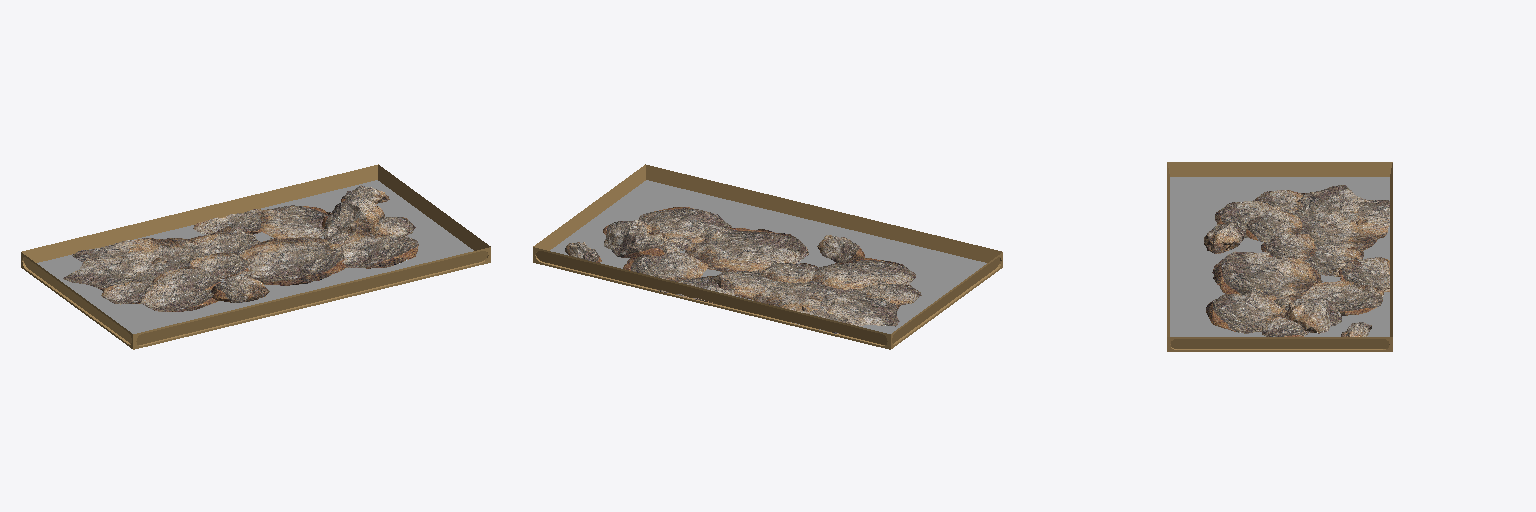
3 views of the same model, side by side, from view 1: azimuth 30°, elevation 25°; view 2: azimuth 150°, elevation 25°; view 3: azimuth 270°, elevation 25° (orthographic).
Visible parts, largest first — view 1: Icosphere.001_Icosphere.003, walls_wall1_walls_Cube.002_Cube.002_Material_wall1_walls_Cube.00, floor_Cube_Cube_Material.000_floor_Cube_Cube_Material.000_Mater; view 2: Icosphere.001_Icosphere.003, walls_wall1_walls_Cube.002_Cube.002_Material_wall1_walls_Cube.00, floor_Cube_Cube_Material.000_floor_Cube_Cube_Material.000_Mater; view 3: Icosphere.001_Icosphere.003, floor_Cube_Cube_Material.000_floor_Cube_Cube_Material.000_Mater, walls_wall1_walls_Cube.002_Cube.002_Material_wall1_walls_Cube.00.
Part boxes in pixels (left/top/right/bottom): Icosphere.001_Icosphere.003: left=63, top=185, right=418, bottom=311; walls_wall1_walls_Cube.002_Cube.002_Material_wall1_walls_Cube.00: left=21, top=164, right=490, bottom=349; floor_Cube_Cube_Material.000_floor_Cube_Cube_Material.000_Mater: left=37, top=180, right=473, bottom=333; Icosphere.001_Icosphere.003: left=565, top=207, right=921, bottom=333; walls_wall1_walls_Cube.002_Cube.002_Material_wall1_walls_Cube.00: left=533, top=164, right=1002, bottom=349; floor_Cube_Cube_Material.000_floor_Cube_Cube_Material.000_Mater: left=550, top=180, right=986, bottom=333; Icosphere.001_Icosphere.003: left=1204, top=185, right=1389, bottom=336; floor_Cube_Cube_Material.000_floor_Cube_Cube_Material.000_Mater: left=1170, top=177, right=1389, bottom=336; walls_wall1_walls_Cube.002_Cube.002_Material_wall1_walls_Cube.00: left=1167, top=162, right=1392, bottom=351.
Bounding box in the file's own units: 26.4 × 2.18 × 14.4.
3 materials, 1 textured.